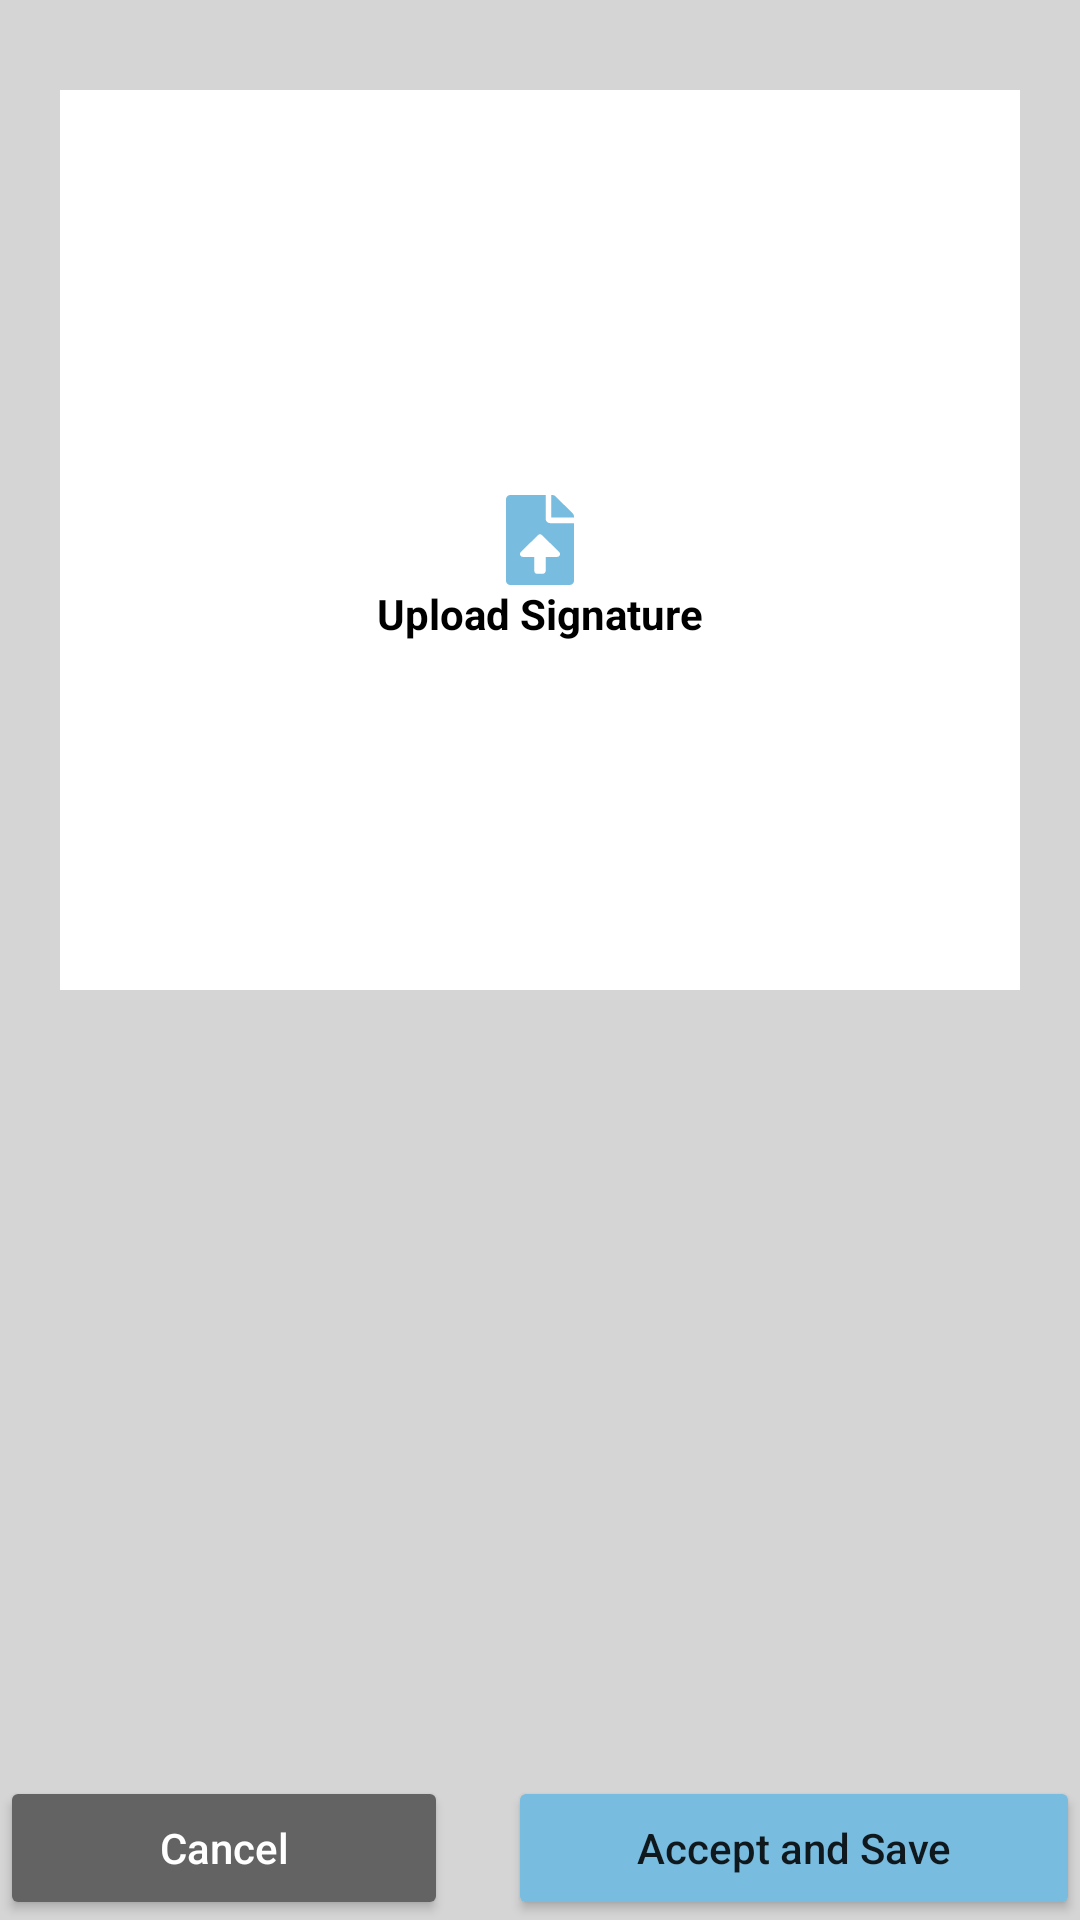

Locate icon controls on the screen. Image size 1080px x 1920px, boxes as (x1, y1, x2, y2).
upload file: (506, 495, 574, 585)
